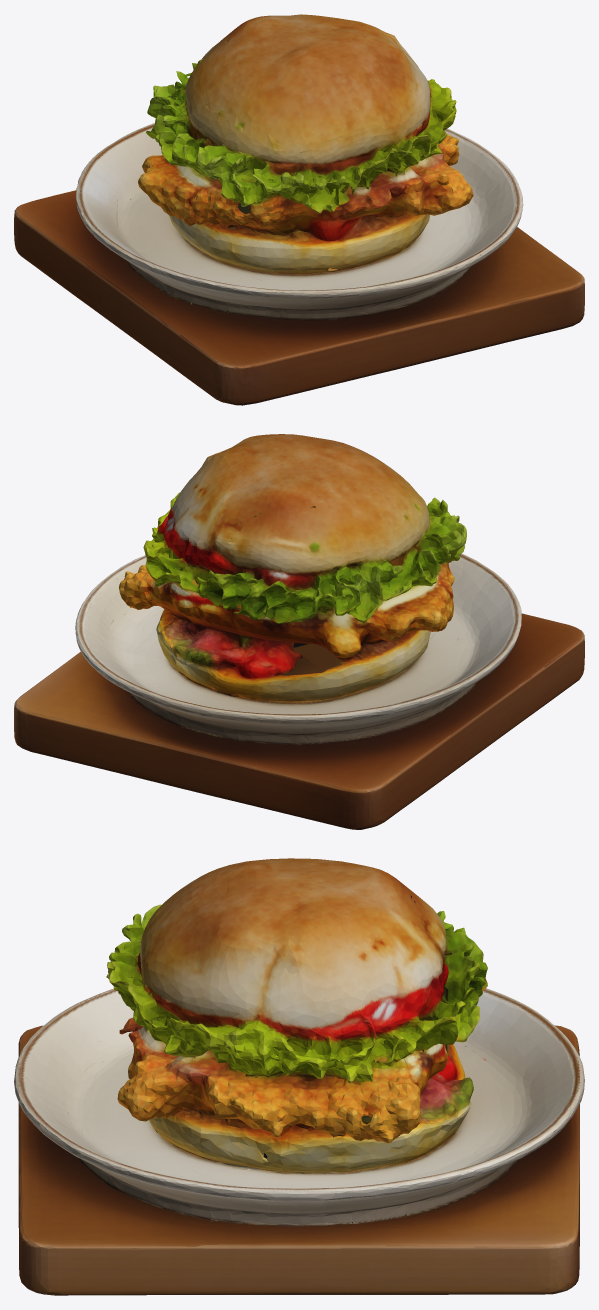
File: italien_grando.glb
3 views of the same model, one above another, from view 1: azimuth 30°, elevation 25°; view 2: azimuth 150°, elevation 25°; view 3: azimuth 270°, elevation 25° (orthographic). The views are drawn at different scales.
Visible parts, largest first — view 1: world; view 2: world; view 3: world.
Part boxes in pixels (x1,y1,x2,y2): world: (14, 14, 584, 405); world: (14, 434, 584, 829); world: (14, 858, 584, 1295).
Size of the model in its own units: 0.9594 by 0.6047 by 0.9981.
Materials: 1 (1 with a texture image).
